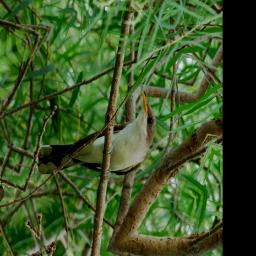Cuckoo: (31, 84, 166, 219)
